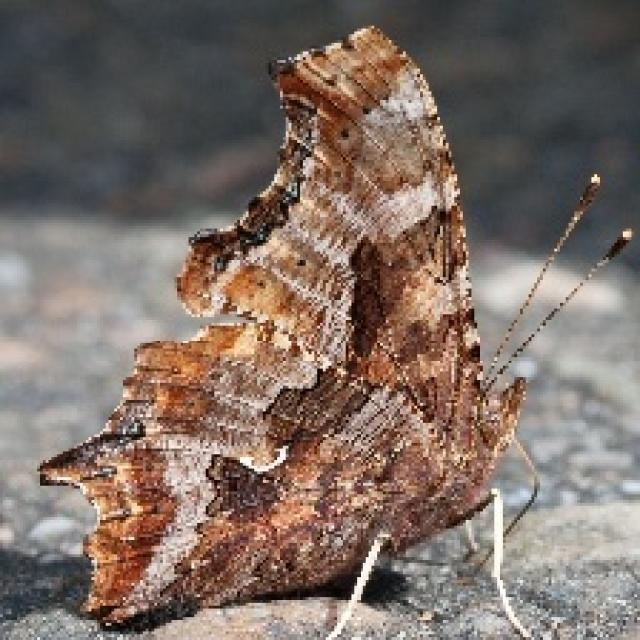butterfly: (35, 23, 634, 637)
